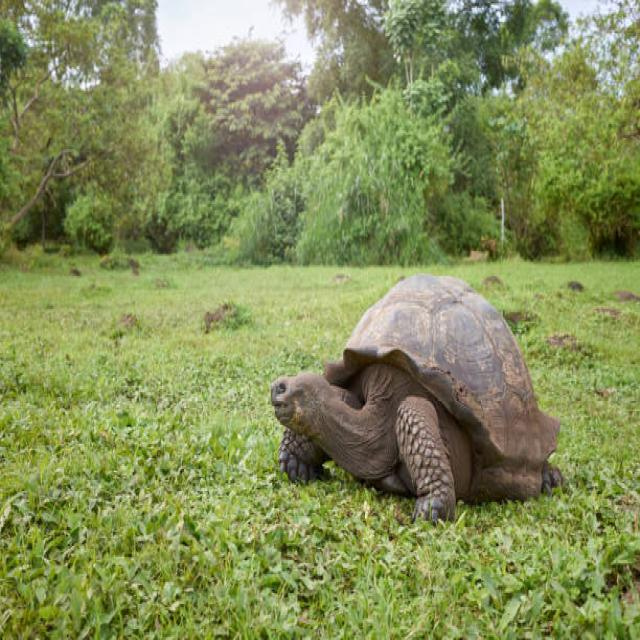tortoise: (313, 236, 615, 526), (386, 406, 472, 535), (258, 346, 360, 443), (252, 404, 328, 493)
